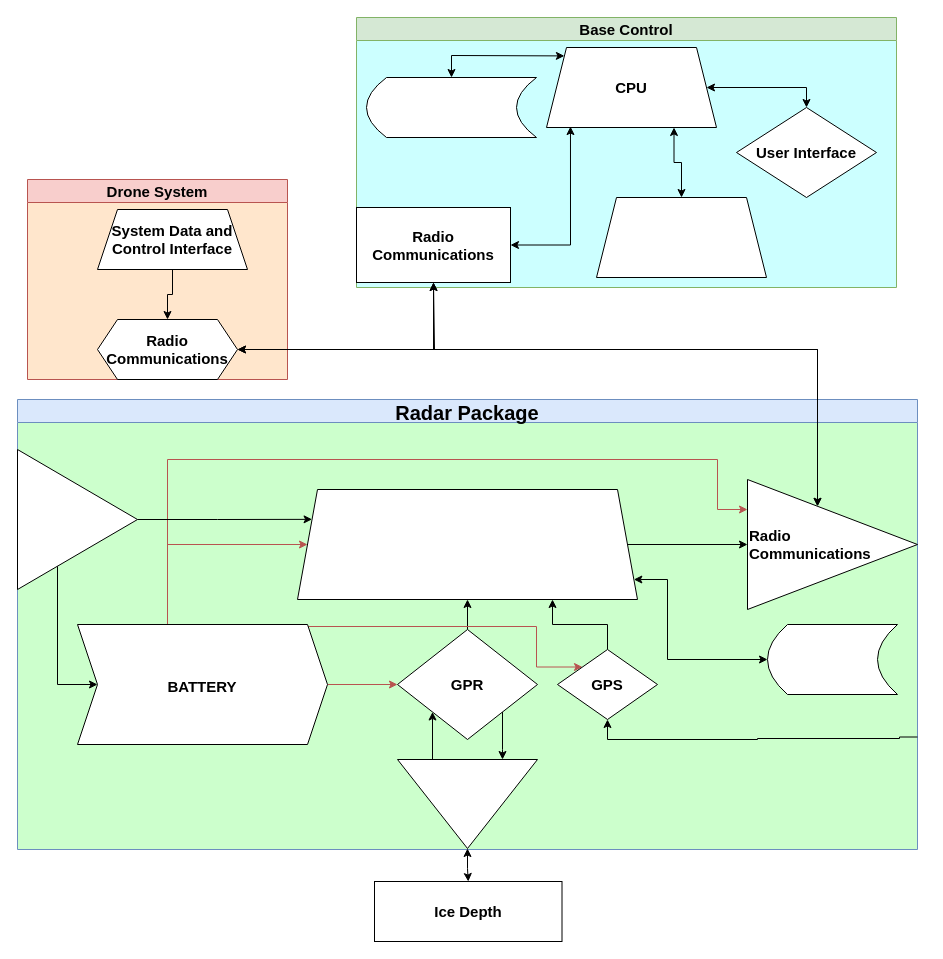
The diagram is 943 pixels wide and 959 high, and some of its shapes have lost their labels. The shapes that lost their labels are listed below. From the top down, each one's box as (x1, y1, x2, y2) in pixels, then its label:
(366, 76, 536, 138): Local Storage
(596, 196, 766, 278): Data Analysis
(16, 448, 138, 590): Ports (COM/Power)
(296, 488, 638, 600): MCU
(766, 624, 898, 694): On Board Storage
(396, 758, 538, 848): ANTENNA
